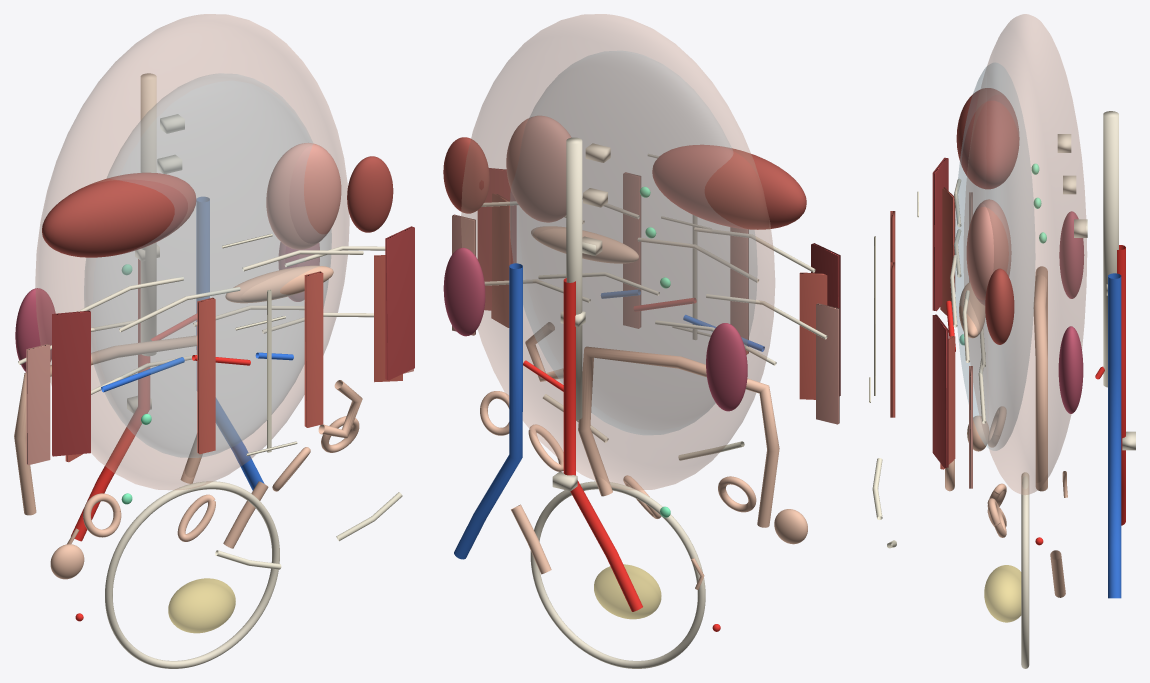
The model's file is abdomen_premium.glb.
The picture shows the model from 3 angles, left to right: view 1: azimuth 30°, elevation 25°; view 2: azimuth 150°, elevation 25°; view 3: azimuth 270°, elevation 25°; orthographic projection. The views are drawn at different scales.
Visible parts, largest first — view 1: SURFACE_tronc_abdominal_translucide, PERITONEUM_cavite_peritoneale_translucide, ORGAN_foie_segments_hepatiques, ORGAN_estomac_crosse_gastrique, MUSCLE_oblique_externe_gauche, BONE_bassin_anneau_pelvien, MUSCLE_oblique_externe_droit, ORGAN_colon_cadre_colique, MUSCLE_grand_droit_abdomen_droit, BONE_colonne_lombaire, ORGAN_vessie, MUSCLE_transverse_abdomen_gauche (+17 smaller); view 2: SURFACE_tronc_abdominal_translucide, PERITONEUM_cavite_peritoneale_translucide, ORGAN_foie_segments_hepatiques, ORGAN_estomac_crosse_gastrique, ORGAN_colon_cadre_colique, VESSEL_veine_cave_inferieure, VESSEL_aorte_abdominale, BONE_bassin_anneau_pelvien, BONE_colonne_lombaire, ORGAN_rein_droit, ORGAN_rein_gauche, ORGAN_rate (+17 smaller); view 3: SURFACE_tronc_abdominal_translucide, PERITONEUM_cavite_peritoneale_translucide, ORGAN_foie_segments_hepatiques, VESSEL_veine_cave_inferieure, ORGAN_estomac_crosse_gastrique, BONE_colonne_lombaire, ORGAN_colon_cadre_colique, MUSCLE_oblique_externe_droit, ORGAN_vessie, ORGAN_rate, ORGAN_rein_gauche, MUSCLE_oblique_externe_gauche (+12 smaller).
Boxes of the visible parts, x1,y1,x2,y2 form: SURFACE_tronc_abdominal_translucide: [35, 14, 349, 489]; PERITONEUM_cavite_peritoneale_translucide: [84, 73, 331, 457]; ORGAN_foie_segments_hepatiques: [42, 172, 196, 257]; ORGAN_estomac_crosse_gastrique: [266, 143, 341, 249]; MUSCLE_oblique_externe_gauche: [52, 310, 90, 456]; BONE_bassin_anneau_pelvien: [105, 481, 279, 668]; MUSCLE_oblique_externe_droit: [385, 226, 414, 380]; ORGAN_colon_cadre_colique: [14, 335, 202, 515]; MUSCLE_grand_droit_abdomen_droit: [304, 271, 323, 427]; BONE_colonne_lombaire: [140, 73, 156, 355]; ORGAN_vessie: [168, 578, 235, 633]; MUSCLE_transverse_abdomen_gauche: [26, 344, 50, 465]; SURFACE_tronc_abdominal_translucide: [461, 14, 774, 489]; PERITONEUM_cavite_peritoneale_translucide: [510, 51, 757, 434]; ORGAN_foie_segments_hepatiques: [652, 144, 806, 229]; ORGAN_estomac_crosse_gastrique: [506, 115, 571, 222]; ORGAN_colon_cadre_colique: [578, 346, 779, 527]; VESSEL_veine_cave_inferieure: [454, 263, 522, 559]; VESSEL_aorte_abdominale: [563, 278, 642, 611]; BONE_bassin_anneau_pelvien: [530, 481, 705, 668]; BONE_colonne_lombaire: [566, 137, 582, 420]; ORGAN_rein_droit: [706, 323, 747, 411]; ORGAN_rein_gauche: [443, 247, 485, 336]; ORGAN_rate: [443, 137, 489, 213]; SURFACE_tronc_abdominal_translucide: [964, 14, 1086, 494]; PERITONEUM_cavite_peritoneale_translucide: [955, 62, 1035, 450]; ORGAN_foie_segments_hepatiques: [956, 88, 1019, 189]; VESSEL_veine_cave_inferieure: [1108, 273, 1121, 598]; ORGAN_estomac_crosse_gastrique: [966, 199, 1011, 305]; BONE_colonne_lombaire: [1103, 111, 1118, 387]; ORGAN_colon_cadre_colique: [1033, 266, 1047, 491]; MUSCLE_oblique_externe_droit: [932, 314, 948, 467]; ORGAN_vessie: [984, 565, 1021, 622]; ORGAN_rate: [985, 268, 1014, 344]; ORGAN_rein_gauche: [1058, 326, 1083, 413]; MUSCLE_oblique_externe_gauche: [932, 157, 948, 311].
Size of the model in its own units: 3.87 by 6.23 by 2.37.
